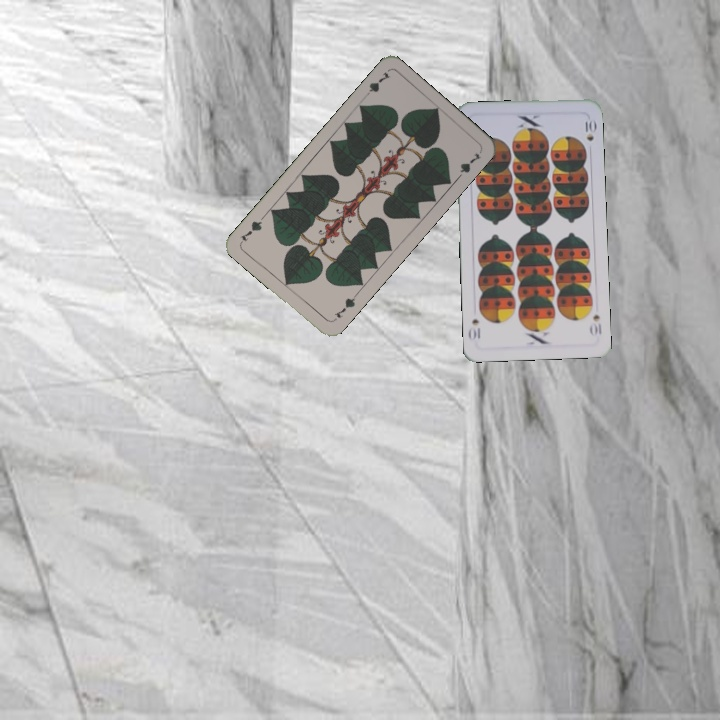G7: (359, 67, 392, 101), (329, 290, 360, 324)
S10: (586, 310, 604, 338)
